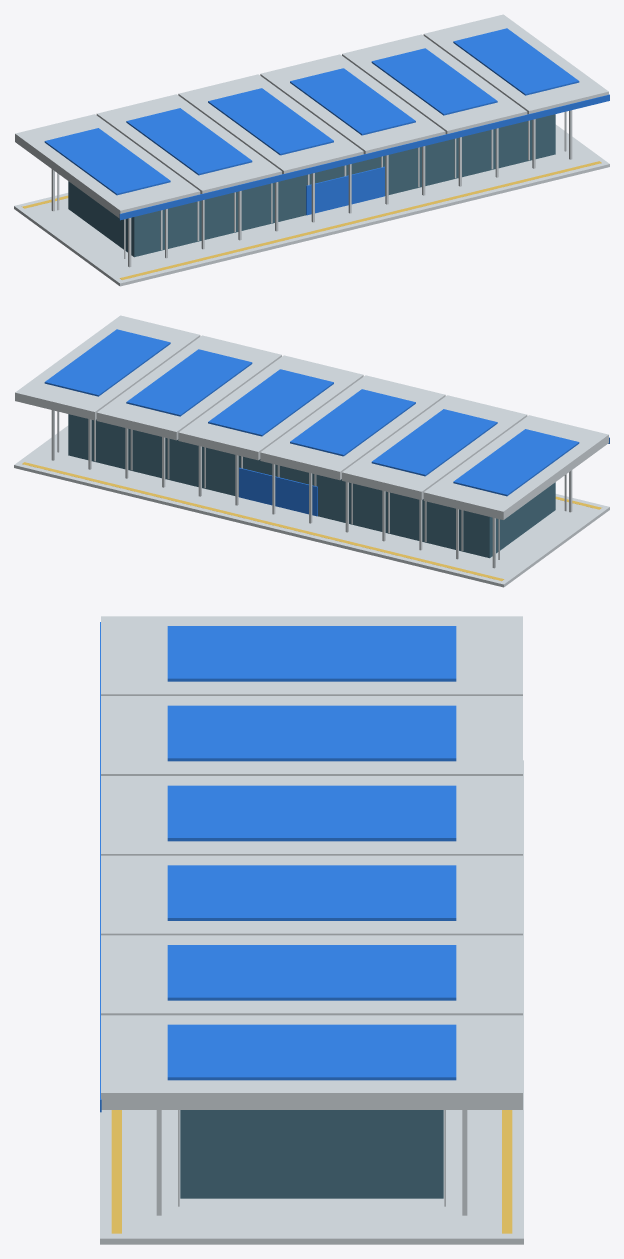
The model's file is nynj-station-PERM.glb.
3 renders of one model, top to bottom at view 1: azimuth 30°, elevation 25°; view 2: azimuth 150°, elevation 25°; view 3: azimuth 270°, elevation 25°, orthographic. The views are drawn at different scales.
Parts seen in each view (by area): view 1: Canopy panel (×6), Roof accent (×6), Platform, Concourse glazing, Phase fascia, Entrance band, Platform edge; view 2: Canopy panel (×6), Roof accent (×6), Concourse glazing, Platform, Entrance band, Platform edge; view 3: Canopy panel (×6), Roof accent (×6), Platform, Concourse glazing, Platform edge (×2).
Boxes of the visible parts, bbox=[...] form: Canopy panel (×6): bbox=[15, 14, 608, 218]; Roof accent (×6): bbox=[44, 28, 579, 195]; Platform: bbox=[14, 124, 609, 286]; Concourse glazing: bbox=[68, 114, 555, 257]; Phase fascia: bbox=[119, 94, 609, 220]; Entrance band: bbox=[306, 166, 384, 215]; Platform edge: bbox=[119, 161, 601, 279]; Canopy panel (×6): bbox=[15, 315, 608, 519]; Roof accent (×6): bbox=[44, 329, 579, 496]; Concourse glazing: bbox=[68, 414, 555, 558]; Platform: bbox=[14, 425, 609, 587]; Entrance band: bbox=[239, 467, 317, 516]; Platform edge: bbox=[22, 462, 504, 580]; Canopy panel (×6): bbox=[101, 616, 522, 1109]; Roof accent (×6): bbox=[167, 626, 456, 1080]; Platform: bbox=[100, 760, 523, 1244]; Concourse glazing: bbox=[180, 1110, 443, 1198]; Platform edge (×2): bbox=[111, 1110, 512, 1233].
Bounding box in the file's own units: 120 × 18 × 45.
